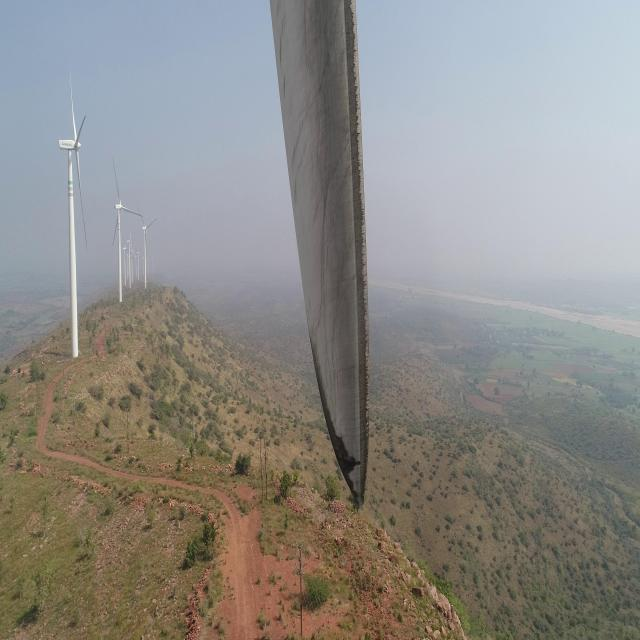Dirt: (268, 0, 369, 508)
Oil LEAKAGE: (309, 339, 364, 503)
Pin Hole: (352, 456, 366, 472)
